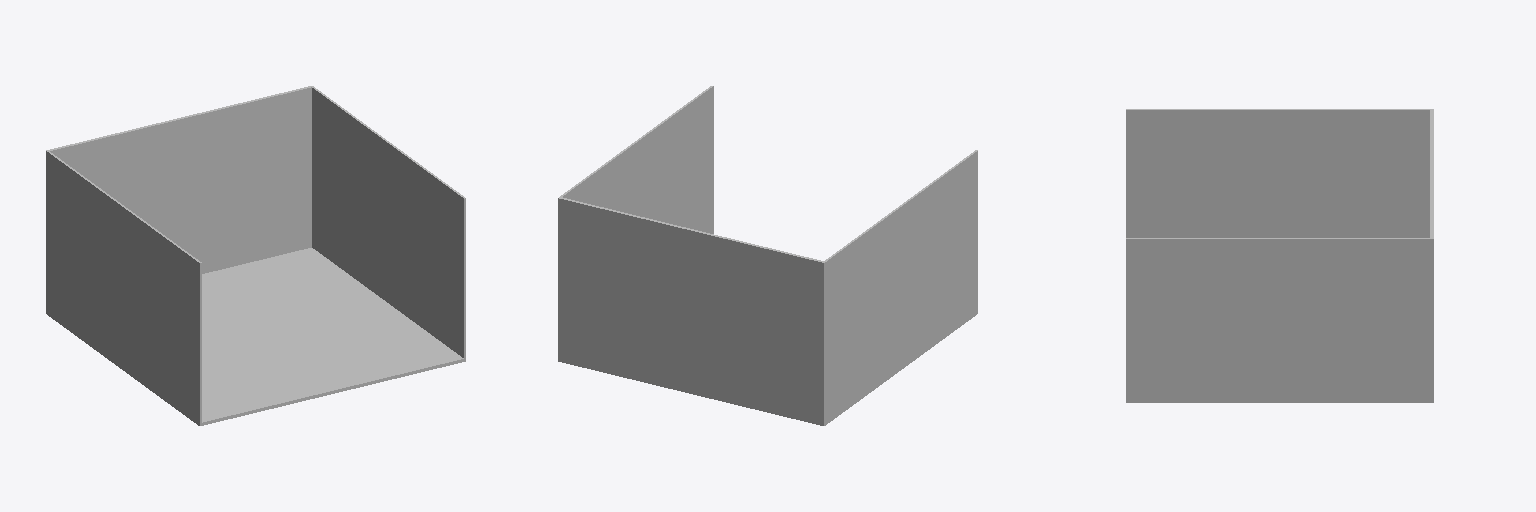
Rendered from Tutorial Map V1.0-2.obj.
The picture shows the model from 3 angles: view 1: azimuth 30°, elevation 25°; view 2: azimuth 150°, elevation 25°; view 3: azimuth 270°, elevation 25°; orthographic projection.
Visible parts, largest first — view 1: object 1; view 2: object 1; view 3: object 1.
Part boxes in pixels (left/top/right/bottom): object 1: left=46, top=86, right=465, bottom=425; object 1: left=558, top=86, right=977, bottom=425; object 1: left=1126, top=109, right=1433, bottom=402.
Size of the model in its own units: 25.6 by 15 by 25.6.